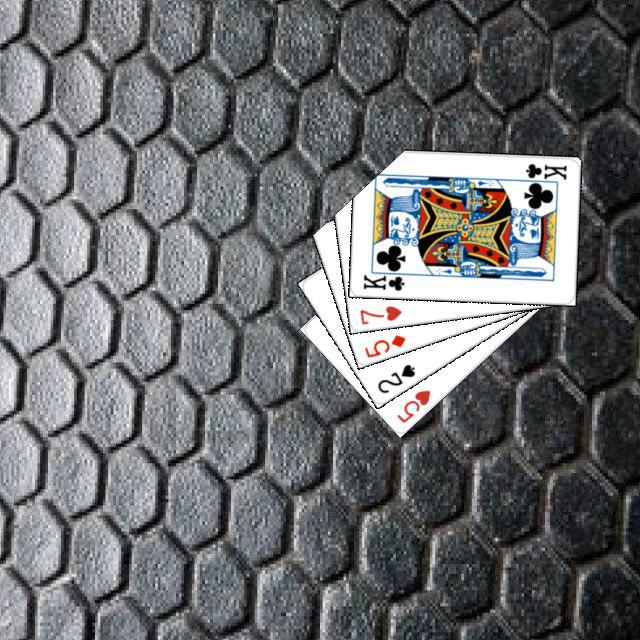2s: (372, 359, 417, 395)
5d: (359, 330, 407, 359)
5h: (391, 385, 432, 425)
7h: (355, 301, 403, 326)
Kc: (358, 266, 411, 292), (516, 159, 568, 185)
